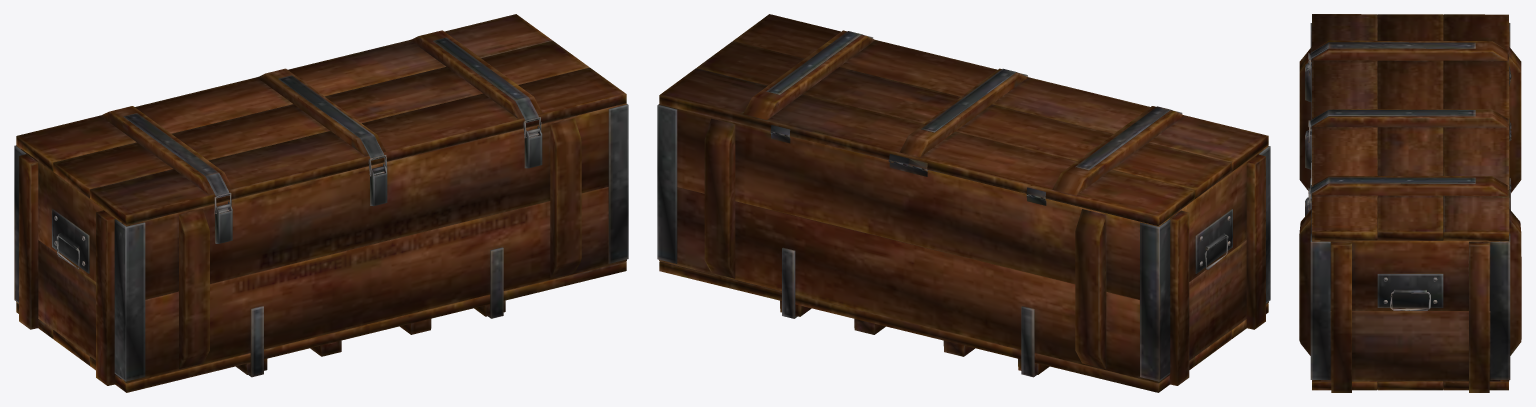
File: wooden_military_crate.glb
3 views of the same model, side by side, from view 1: azimuth 30°, elevation 25°; view 2: azimuth 150°, elevation 25°; view 3: azimuth 270°, elevation 25° (orthographic). The views are drawn at different scales.
Parts seen in each view (by area): view 1: wooden_military_crate; view 2: wooden_military_crate; view 3: wooden_military_crate.
Boxes of the visible parts, left/top/right/bottom form: wooden_military_crate: left=14, top=14, right=628, bottom=392; wooden_military_crate: left=657, top=14, right=1270, bottom=392; wooden_military_crate: left=1299, top=14, right=1521, bottom=392.
Bounding box in the file's own units: 1.24 × 0.4639 × 0.5178.
1 material, 1 textured.
